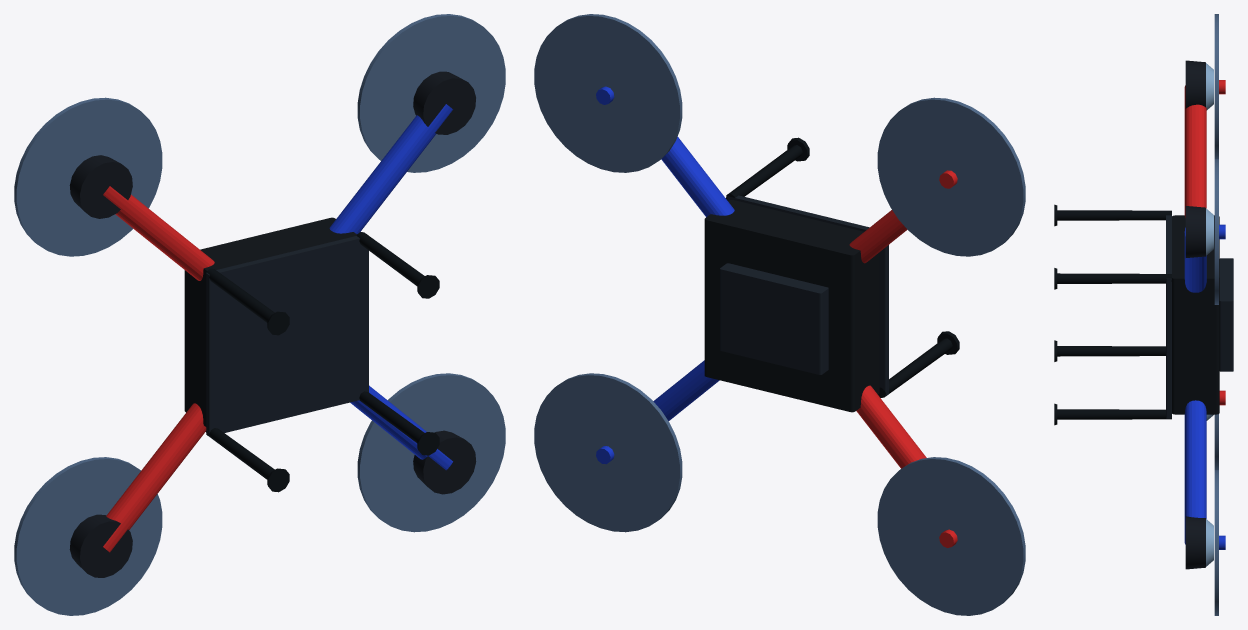
File: px4_quadrotor.obj
3 views of the same model, side by side, from view 1: azimuth 30°, elevation 25°; view 2: azimuth 150°, elevation 25°; view 3: azimuth 270°, elevation 25° (orthographic). The views are drawn at different scales.
Parts seen in each view (by area): view 1: prop_grey_5, body_mid_1, motor_dark_3, red_metal_2, body_dark_0, leg_dark_7, blue_metal_6; view 2: prop_grey_5, body_dark_0, body_mid_1, blue_metal_6, red_metal_2, leg_dark_7; view 3: body_dark_0, leg_dark_7, blue_metal_6, motor_dark_3, body_mid_1, red_metal_2, prop_grey_5, motor_silver_4.
Boxes of the visible parts, bbox=[...] form: prop_grey_5: bbox=[14, 14, 505, 615]; body_mid_1: bbox=[206, 236, 368, 436]; motor_dark_3: bbox=[69, 71, 476, 577]; red_metal_2: bbox=[103, 186, 214, 552]; body_dark_0: bbox=[184, 217, 356, 426]; leg_dark_7: bbox=[206, 232, 439, 492]; blue_metal_6: bbox=[329, 104, 452, 470]; prop_grey_5: bbox=[534, 14, 1025, 615]; body_dark_0: bbox=[704, 200, 879, 412]; body_mid_1: bbox=[720, 194, 888, 395]; blue_metal_6: bbox=[596, 86, 734, 464]; red_metal_2: bbox=[849, 170, 957, 547]; leg_dark_7: bbox=[726, 137, 959, 397]; body_dark_0: bbox=[1172, 215, 1219, 414]; leg_dark_7: bbox=[1054, 204, 1171, 425]; blue_metal_6: bbox=[1184, 224, 1225, 549]; motor_dark_3: bbox=[1185, 60, 1205, 569]; body_mid_1: bbox=[1166, 215, 1233, 418]; red_metal_2: bbox=[1184, 80, 1225, 405]; prop_grey_5: bbox=[1214, 14, 1218, 615]; motor_silver_4: bbox=[1206, 63, 1213, 566].
Bounding box in the file's own units: 0.6687 × 0.6687 × 0.2457.
